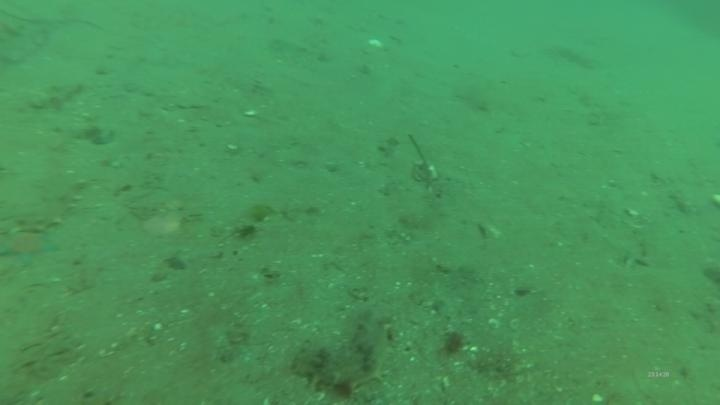holothurian: (289, 305, 397, 398), (4, 172, 87, 238)
starfish: (0, 228, 61, 268)
